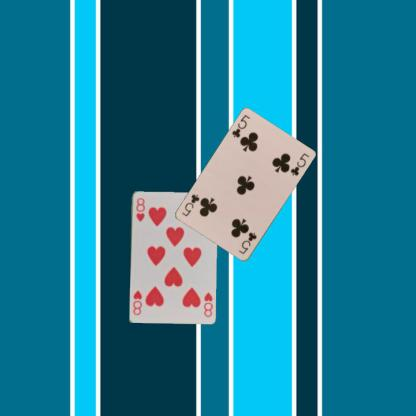5c: (230, 113, 252, 139), (236, 230, 258, 255)
8h: (201, 289, 214, 318), (134, 195, 146, 223)
